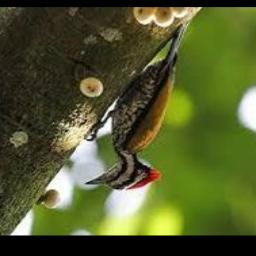Woodpecker: (84, 23, 188, 190)
